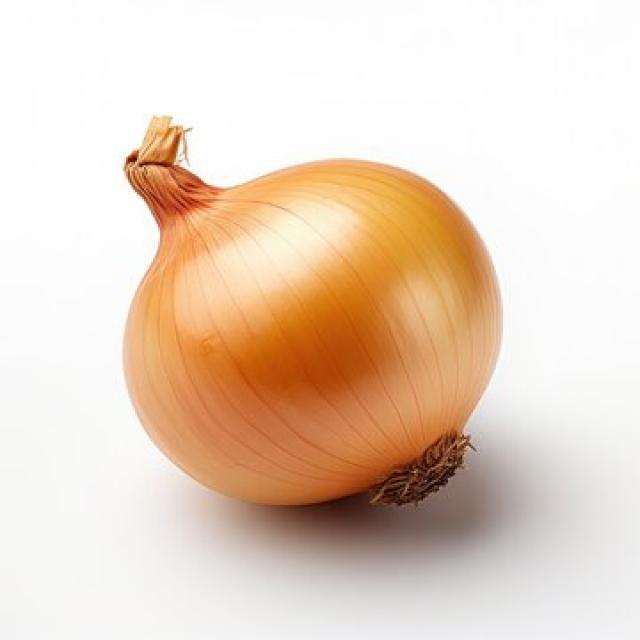Onion: (119, 112, 503, 508)
